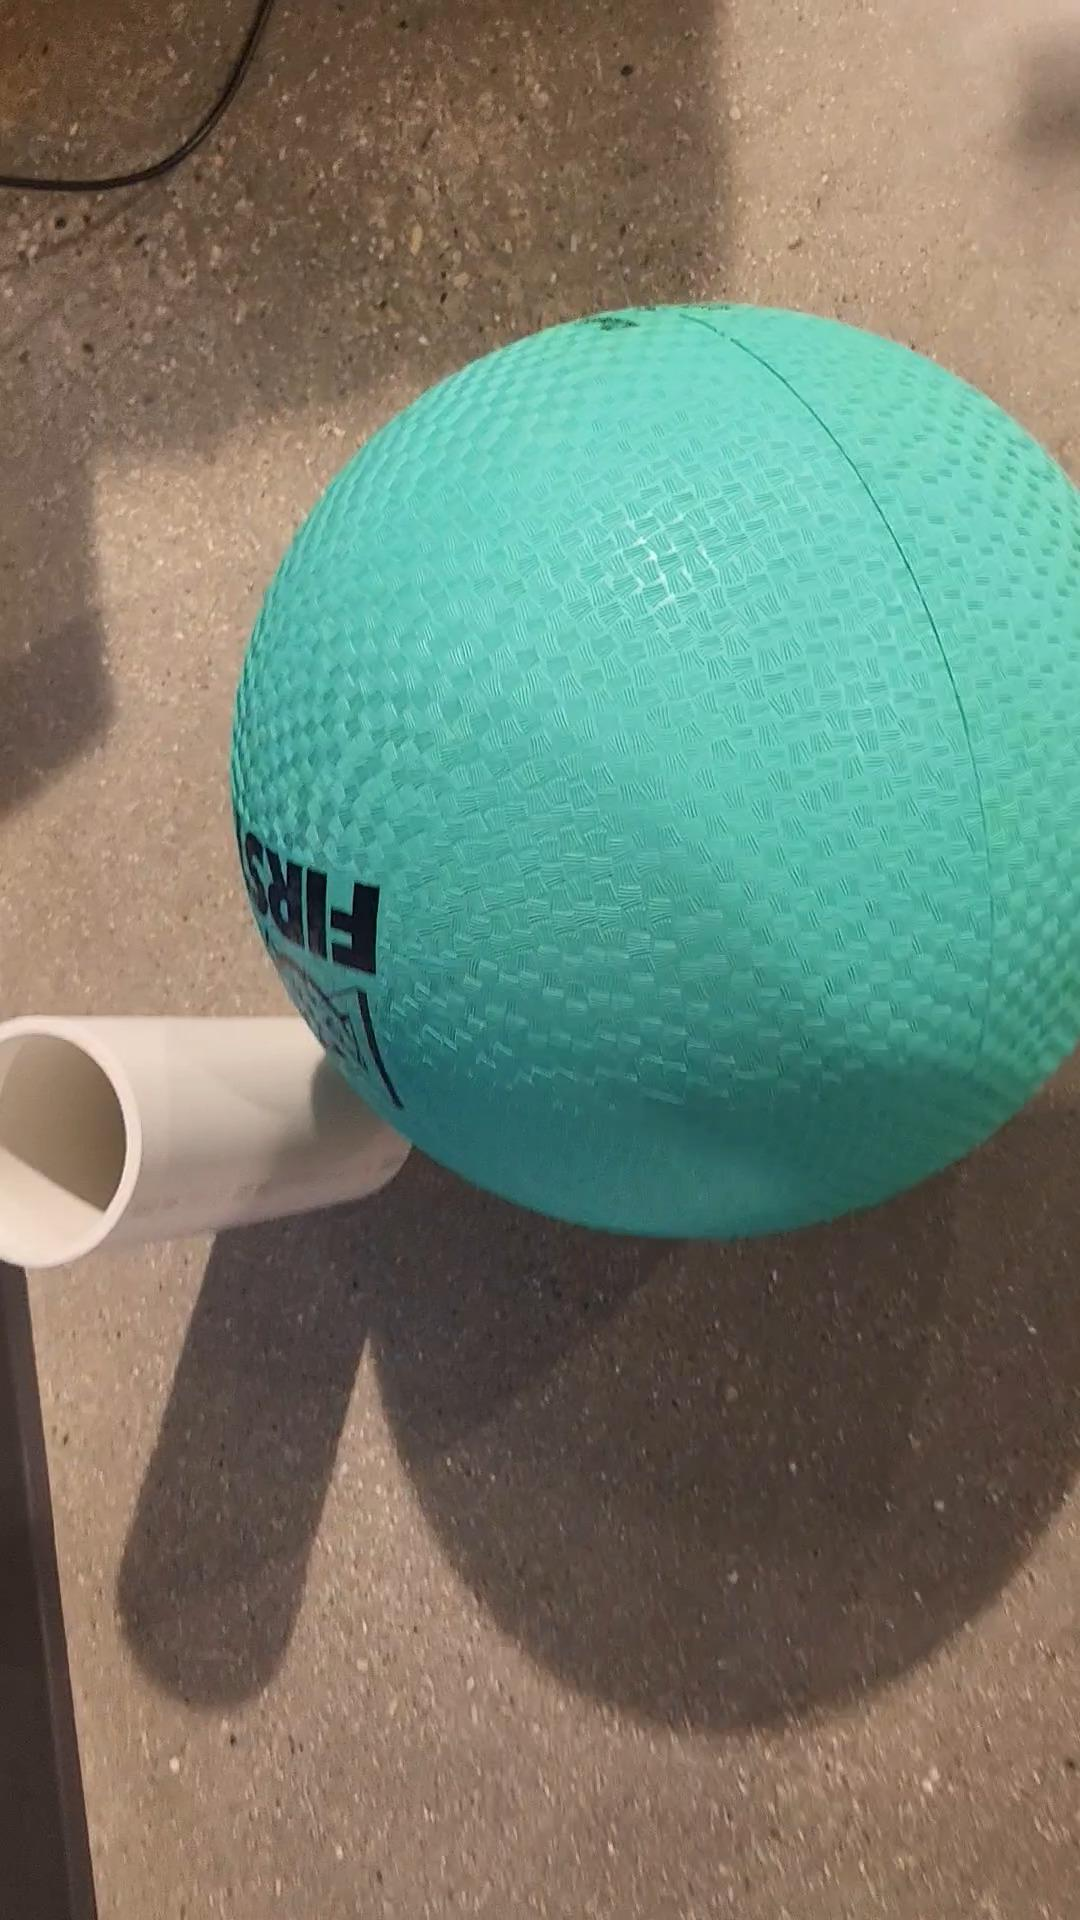algae: (229, 290, 1080, 1238)
coral: (0, 1001, 430, 1267)
